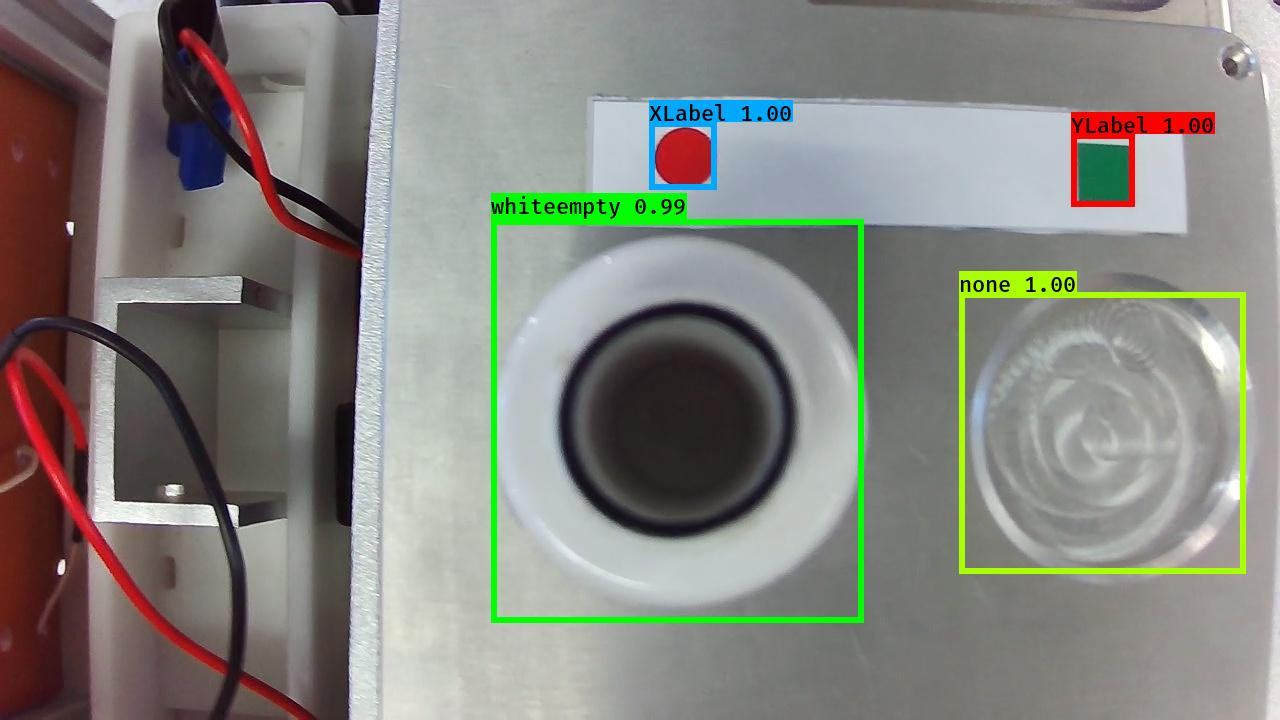XLabel: (650, 119, 719, 189)
YLabel: (1073, 138, 1137, 211)
none: (958, 267, 1272, 597)
whiteempty: (484, 229, 876, 612)
